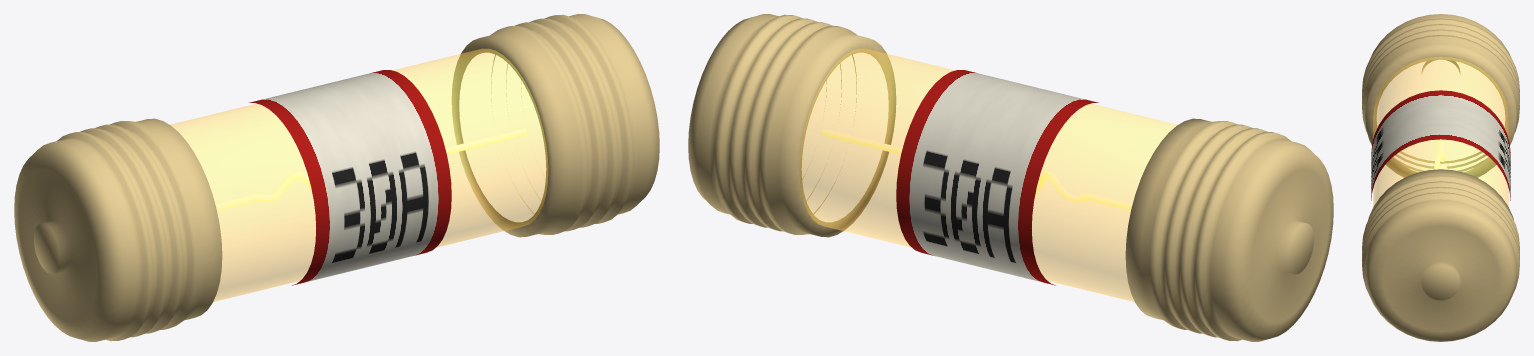
Rendered from fuse.glb.
3 renders of one model, left to right at view 1: azimuth 30°, elevation 25°; view 2: azimuth 150°, elevation 25°; view 3: azimuth 270°, elevation 25°, orthographic. The views are drawn at different scales.
Parts seen in each view (by area): view 1: Fuse, Glass, Filament; view 2: Fuse, Glass, Filament; view 3: Fuse, Glass, Filament.
Part boxes in pixels (box(x1,y1,x2,y2)): Fuse: box(14, 14, 659, 341); Glass: box(170, 48, 548, 301); Filament: box(215, 128, 526, 210); Fuse: box(688, 14, 1333, 341); Glass: box(799, 48, 1177, 301); Filament: box(821, 128, 1132, 210); Fuse: box(1362, 14, 1519, 341); Glass: box(1373, 56, 1508, 206); Filament: box(1434, 139, 1448, 169).
Bounding box in the file's own units: 0.154 × 0.049 × 0.049.
Materials: 4 (1 with a texture image).
